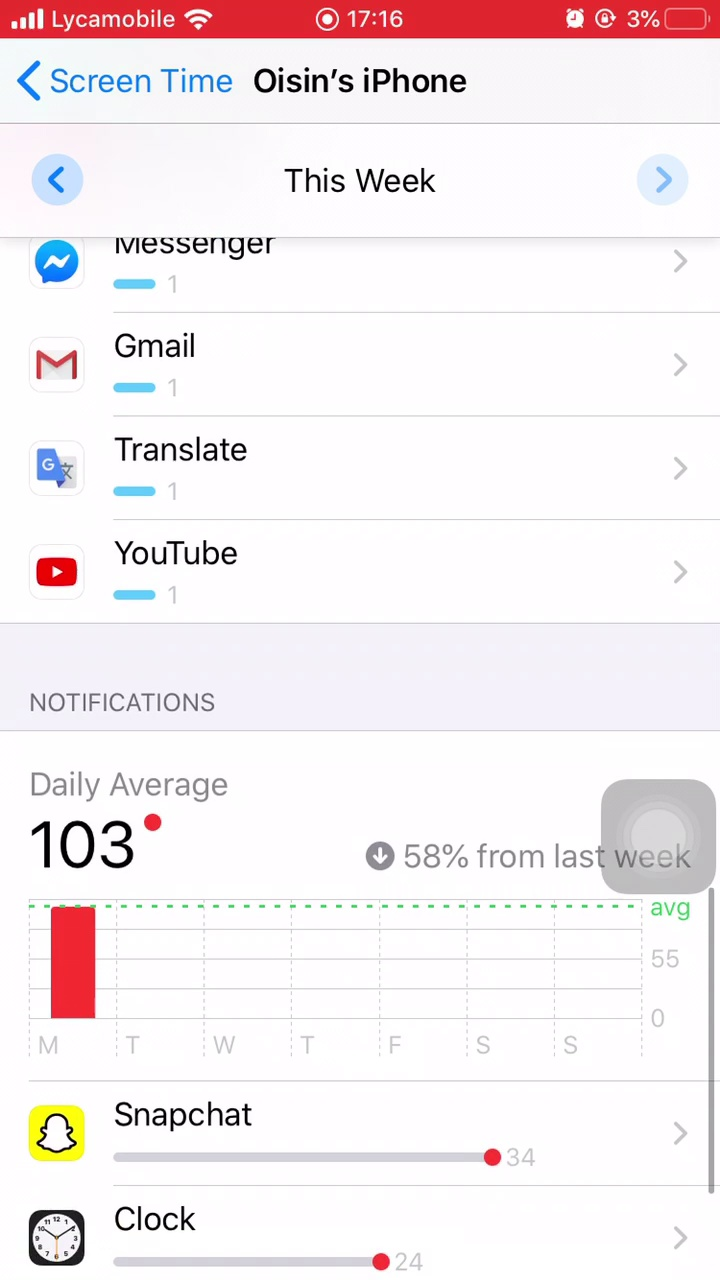not_app: (7, 1085, 590, 1188), (4, 1188, 495, 1278)
not_over: (21, 664, 265, 883)
pick_app: (11, 307, 343, 416), (11, 416, 346, 519), (12, 522, 351, 621)
week: (281, 150, 452, 211)
